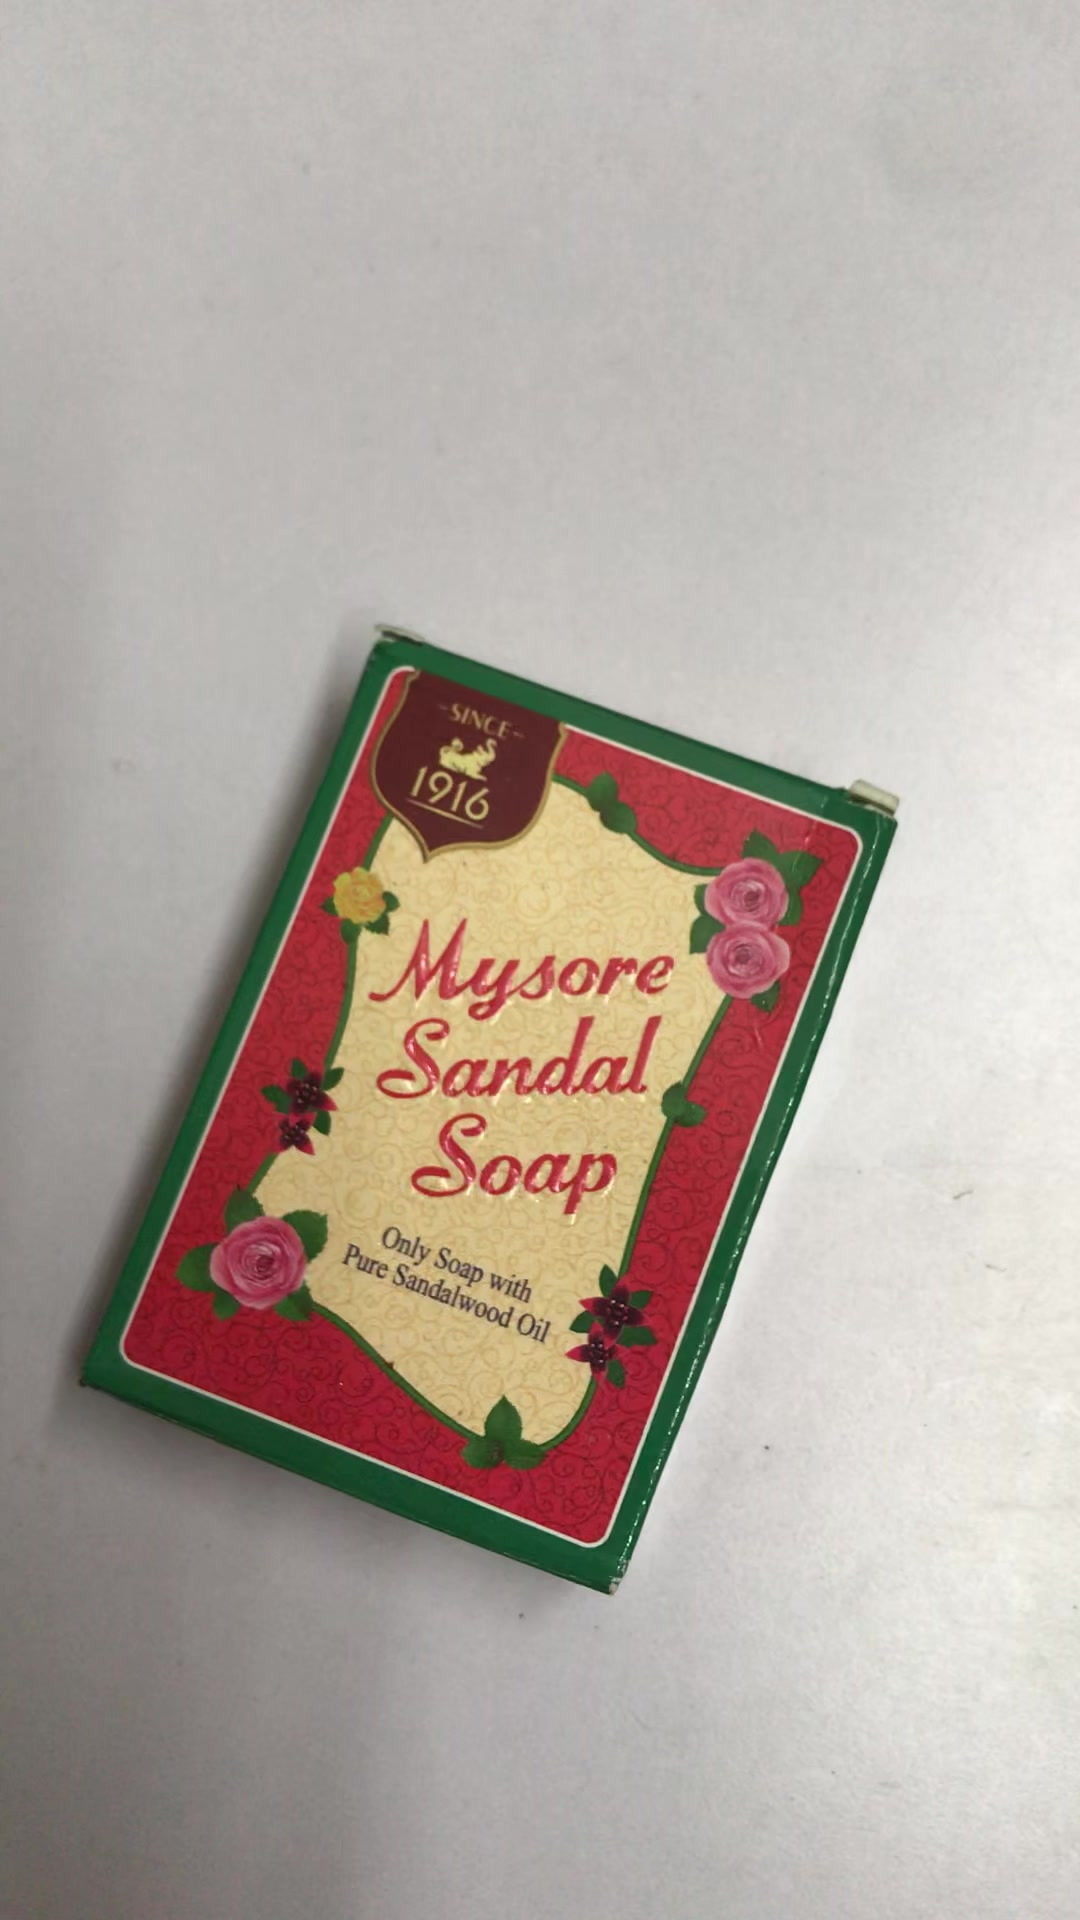mysore sandal soap: (82, 638, 897, 1602)
